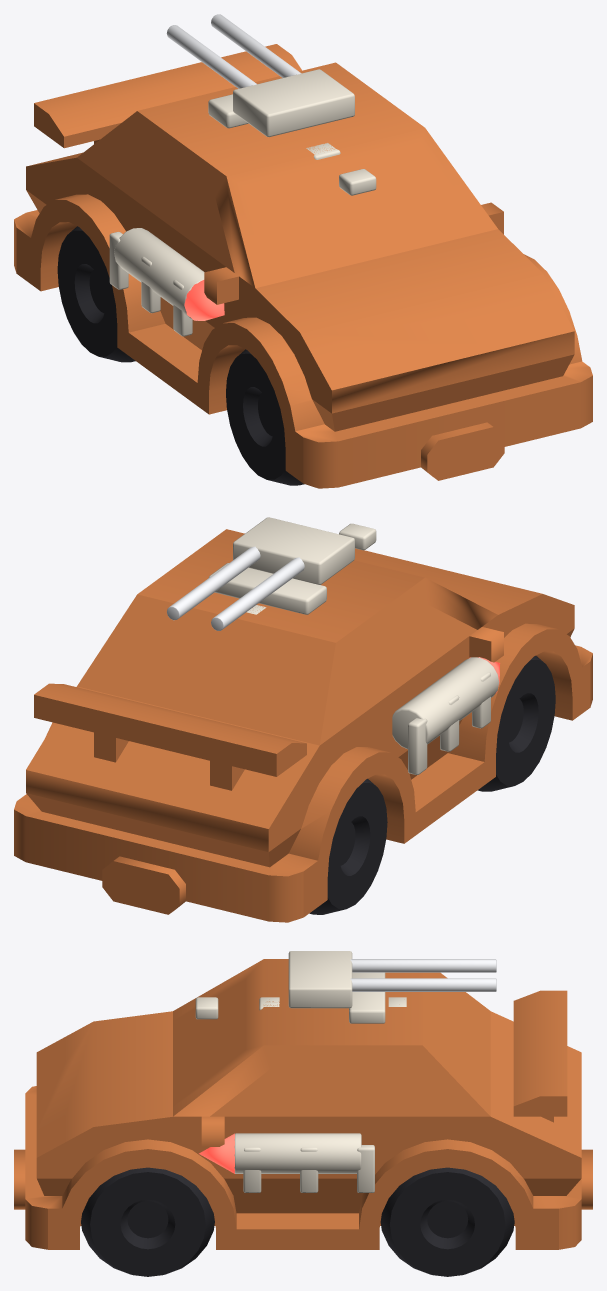
The model's file is sedan_sports_armed.glb.
3 views of the same model, one above another, from view 1: azimuth 30°, elevation 25°; view 2: azimuth 150°, elevation 25°; view 3: azimuth 270°, elevation 25° (orthographic). The views are drawn at different scales.
Visible parts, largest first — view 1: marrow_Body_body, marrow_Body_spoiler, marrow_Wheel_wheel-back-right, marrow_Wheel_wheel-front-right, marrow_GunMount, marrow_RocketL, marrow_GunR, marrow_GunL, marrow_RocketTipL, marrow_Brow, marrow_Spine0, marrow_RibL2; view 2: marrow_Body_body, marrow_Body_spoiler, marrow_Wheel_wheel-back-right, marrow_Wheel_wheel-front-right, marrow_GunMount, marrow_RocketL, marrow_Brow, marrow_GunR, marrow_GunL, marrow_RibL2, marrow_Spine0, marrow_RibL1; view 3: marrow_Body_body, marrow_Wheel_wheel-back-left, marrow_Wheel_wheel-front-left, marrow_Body_spoiler, marrow_RocketR, marrow_GunMount, marrow_GunL, marrow_GunR, marrow_Brow, marrow_RibR2, marrow_RocketTipR, marrow_Spine0 (+2 smaller).
Part boxes in pixels (box(x1,y1,x2,y2)): marrow_Body_body: box(14, 62, 592, 488); marrow_Body_spoiler: box(34, 44, 301, 148); marrow_Wheel_wheel-back-right: box(57, 226, 135, 362); marrow_Wheel_wheel-front-right: box(226, 349, 304, 485); marrow_GunMount: box(233, 69, 354, 137); marrow_RocketL: box(114, 228, 204, 320); marrow_GunR: box(211, 14, 301, 77); marrow_GunL: box(166, 25, 256, 88); marrow_RocketTipL: box(184, 280, 224, 320); marrow_Brow: box(208, 94, 248, 128); marrow_Spine0: box(339, 169, 376, 195); marrow_RibL2: box(109, 231, 128, 289); marrow_Body_body: box(14, 529, 592, 922); marrow_Body_spoiler: box(34, 683, 306, 790); marrow_Wheel_wheel-back-right: box(309, 778, 387, 914); marrow_Wheel_wheel-front-right: box(477, 655, 555, 791); marrow_GunMount: box(233, 517, 354, 584); marrow_RocketL: box(392, 657, 499, 749); marrow_Brow: box(209, 563, 326, 614); marrow_GunR: box(167, 546, 260, 620); marrow_GunL: box(211, 557, 304, 630); marrow_RibL2: box(408, 718, 427, 774); marrow_Spine0: box(339, 523, 376, 550); marrow_RibL1: box(440, 695, 459, 751); marrow_Body_body: box(14, 959, 592, 1249); marrow_Wheel_wheel-back-left: box(380, 1167, 514, 1276); marrow_Wheel_wheel-front-left: box(81, 1167, 214, 1276); marrow_Body_spoiler: box(513, 990, 567, 1122); marrow_RocketR: box(234, 1133, 361, 1173); marrow_GunMount: box(288, 951, 352, 1008); marrow_GunL: box(350, 959, 496, 972); marrow_GunR: box(350, 978, 496, 991); marrow_Brow: box(349, 972, 385, 1023); marrow_RibR2: box(357, 1145, 374, 1192); marrow_RocketTipR: box(199, 1133, 234, 1173); marrow_Spine0: box(195, 997, 218, 1019).
Bounding box in the file's own units: 1.43 × 1.26 × 2.55.
